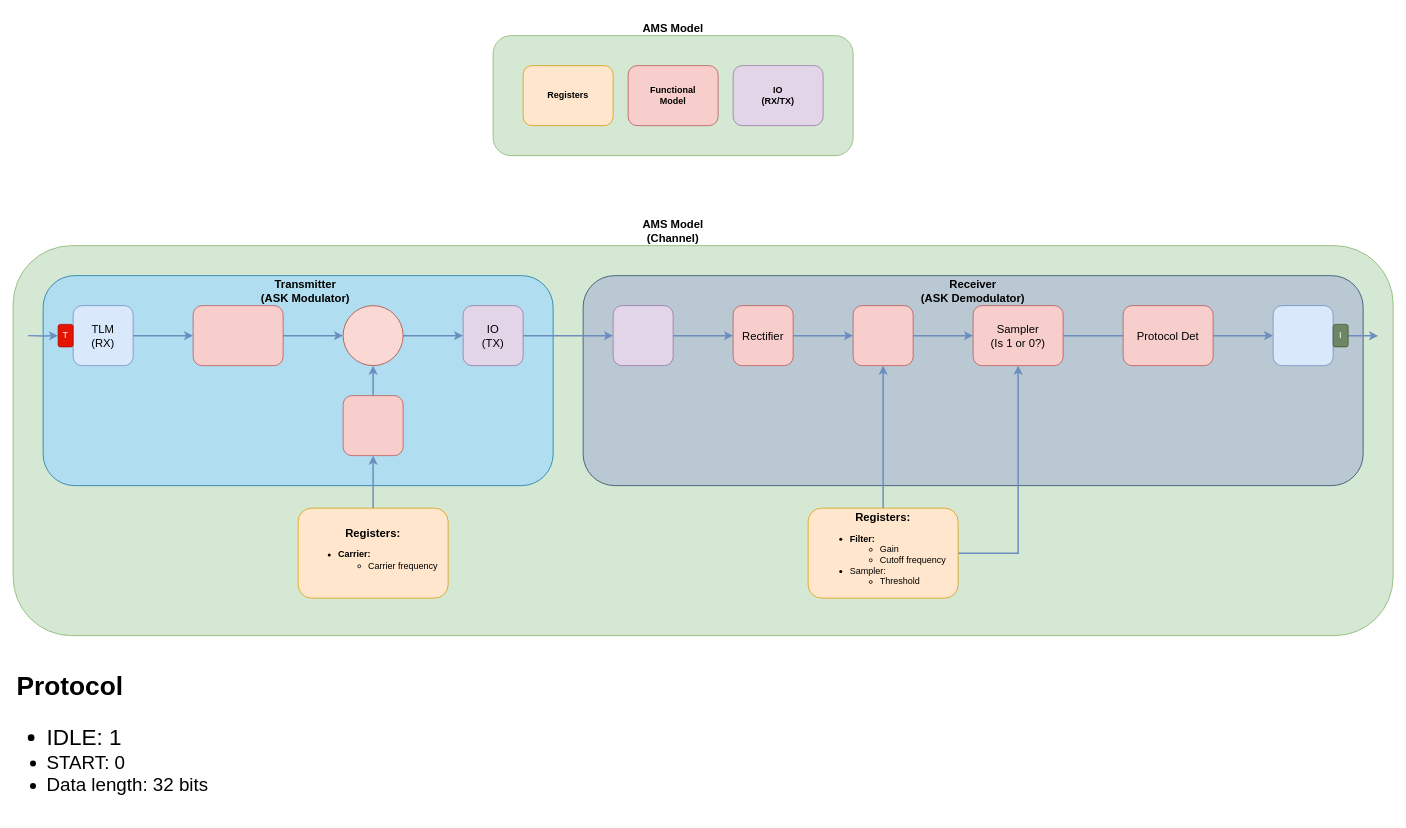
The diagram is 1406 pixels wide and 828 high, and some of its shapes have lost their labels. Each missing label, with the centre of its shape:
Carrier: the point at 372,425
Filter: the point at 882,335
IO (RX): the point at 642,335
Mixer: the point at 372,335
Protocol Gen: the point at 237,335
TLM (TX): the point at 1302,335
